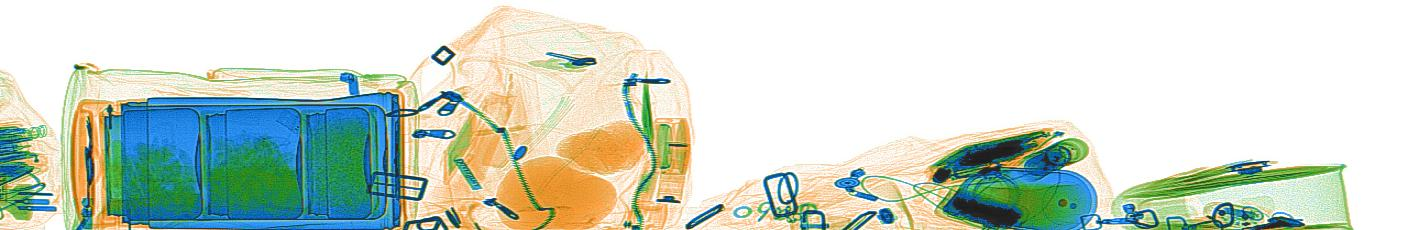battery: (1023, 147, 1066, 176)
